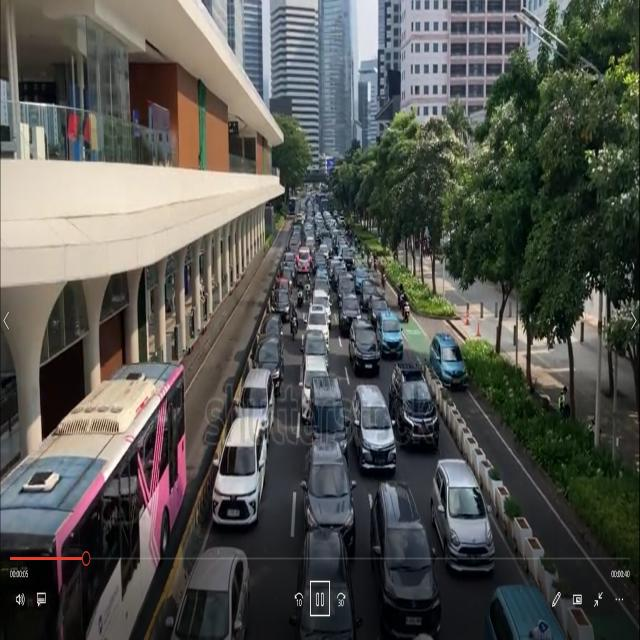Ambulance: (295, 242, 314, 276)
